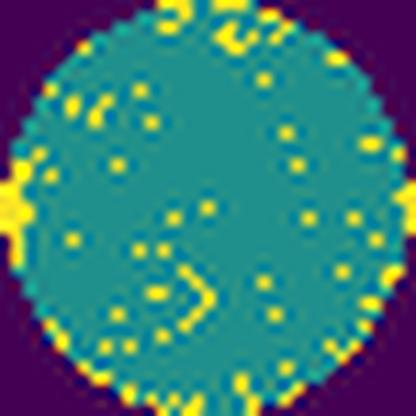Edge-Loc: (0, 143, 46, 277), (148, 0, 192, 39), (391, 176, 415, 240)
